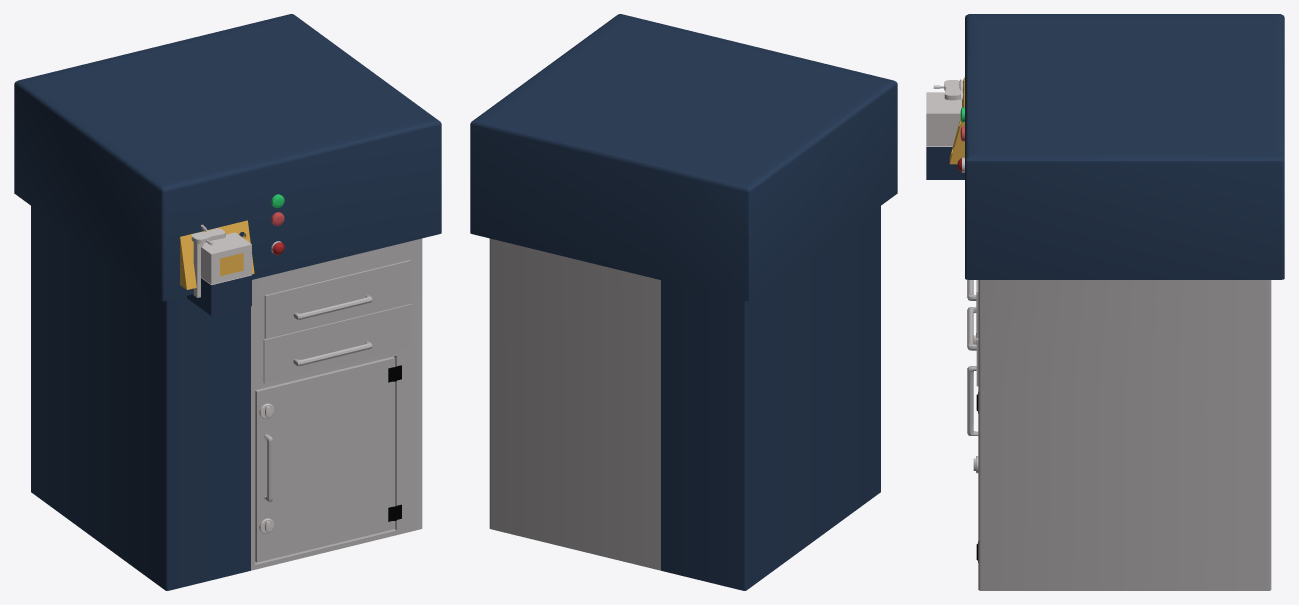
The model's file is oes.obj.
3 views of the same model, side by side, from view 1: azimuth 30°, elevation 25°; view 2: azimuth 150°, elevation 25°; view 3: azimuth 270°, elevation 25° (orthographic). The views are drawn at different scales.
Parts seen in each view (by area): view 1: Cube.036_Cube.064, Cube.042_Cube.070, Cube.039_Cube.067; view 2: Cube.036_Cube.064; view 3: Cube.036_Cube.064, Cube.042_Cube.070, Cube.039_Cube.067.
Part boxes in pixels (x1,y1,x2,y2): Cube.036_Cube.064: (14, 14, 441, 590); Cube.042_Cube.070: (180, 220, 254, 315); Cube.039_Cube.067: (263, 295, 372, 501); Cube.036_Cube.064: (470, 14, 897, 590); Cube.036_Cube.064: (965, 14, 1284, 590); Cube.042_Cube.070: (926, 77, 964, 179); Cube.039_Cube.067: (967, 280, 978, 435).
Size of the model in its own units: 6.42 by 8.95 by 6.62.
Materials: 1 (1 with a texture image).
